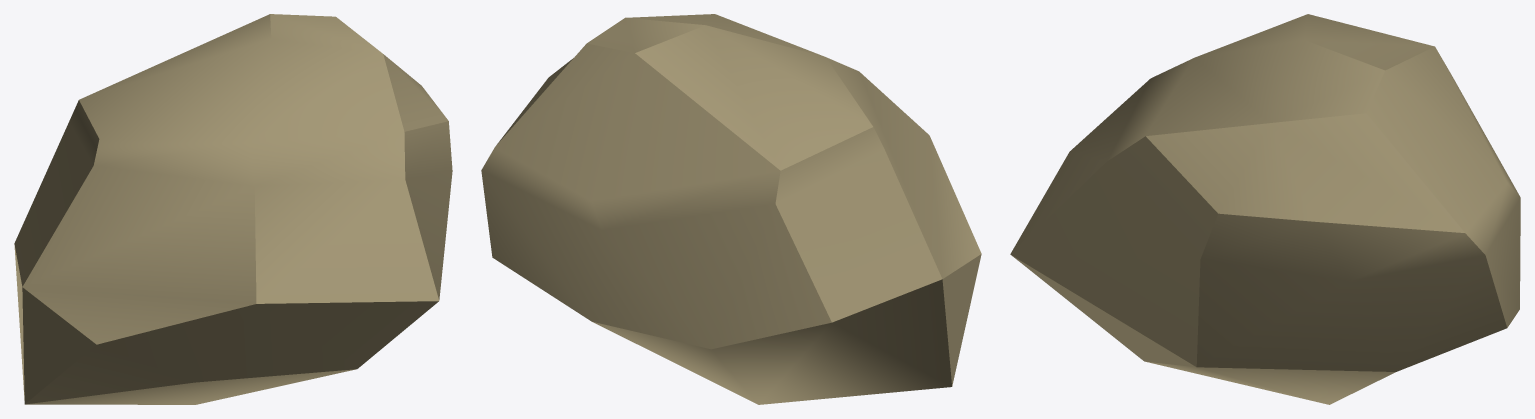
Rendered from rock_4.fbx.
3 renders of one model, left to right at view 1: azimuth 30°, elevation 25°; view 2: azimuth 150°, elevation 25°; view 3: azimuth 270°, elevation 25°, orthographic. The views are drawn at different scales.
Parts seen in each view (by area): view 1: rock_4; view 2: rock_4; view 3: rock_4.
Boxes of the visible parts, box(x1,y1,x2,y2) form: rock_4: box(14, 14, 452, 404); rock_4: box(481, 14, 981, 404); rock_4: box(1010, 14, 1520, 404).
Bounding box in the file's own units: 5.32 × 4.54 × 5.25.
